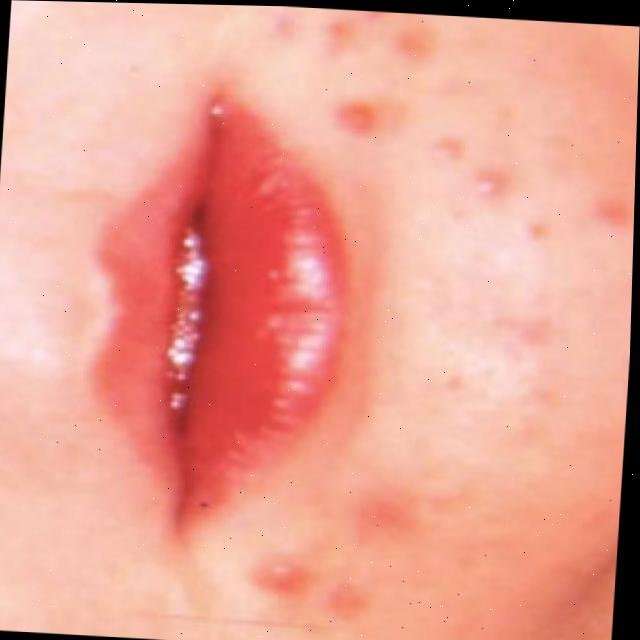Acne: (270, 6, 626, 632)
